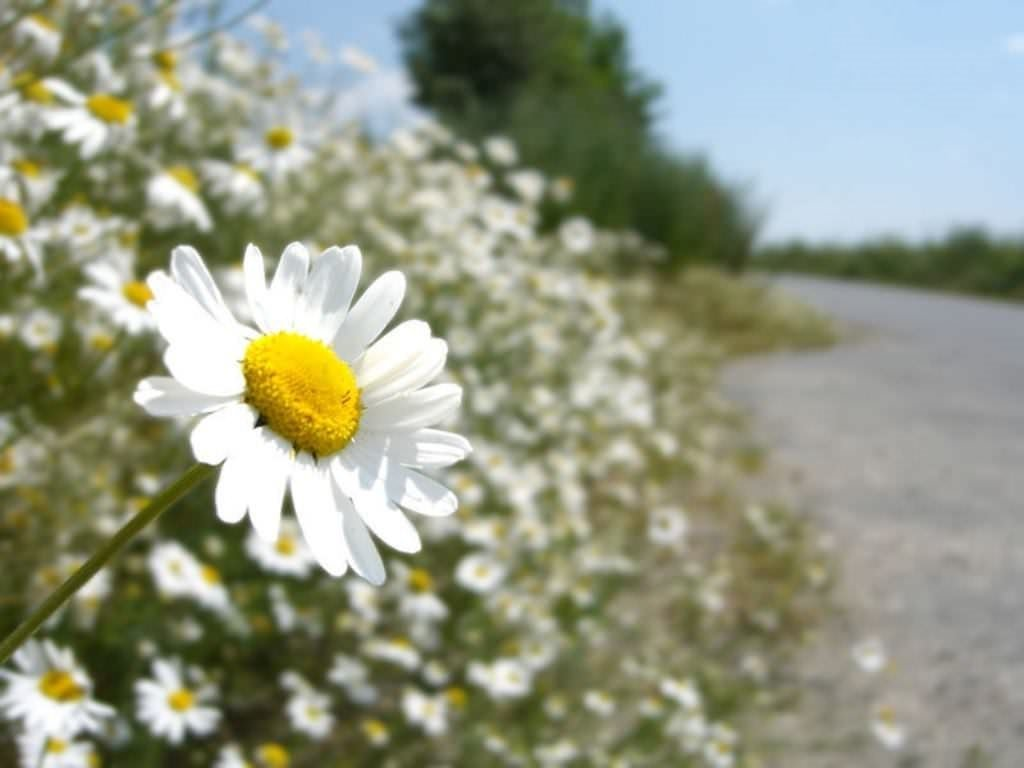papatya: (115, 222, 489, 590)
